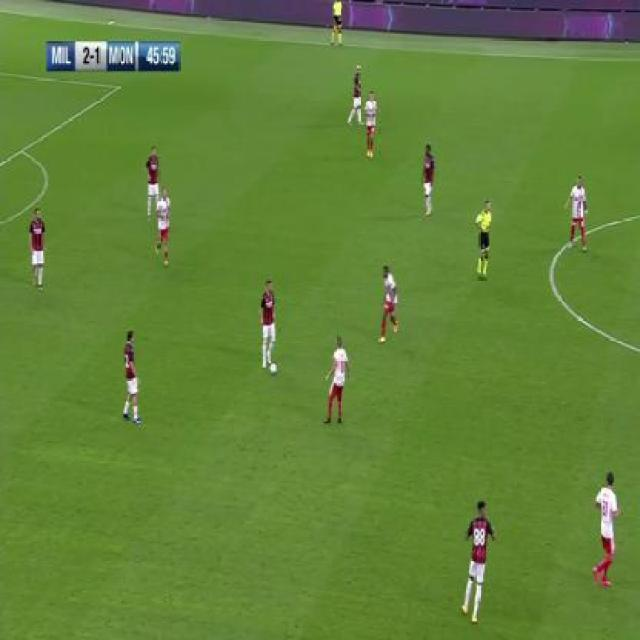ball: (270, 361, 279, 377)
player: (461, 492, 498, 625), (591, 470, 620, 592), (323, 332, 351, 426), (120, 328, 143, 427), (565, 171, 590, 253), (377, 263, 402, 343), (258, 275, 278, 371), (28, 206, 48, 292), (473, 196, 493, 282), (153, 186, 172, 271), (143, 143, 162, 222), (420, 143, 437, 220), (346, 63, 363, 128), (364, 88, 378, 161), (329, 0, 343, 48)
